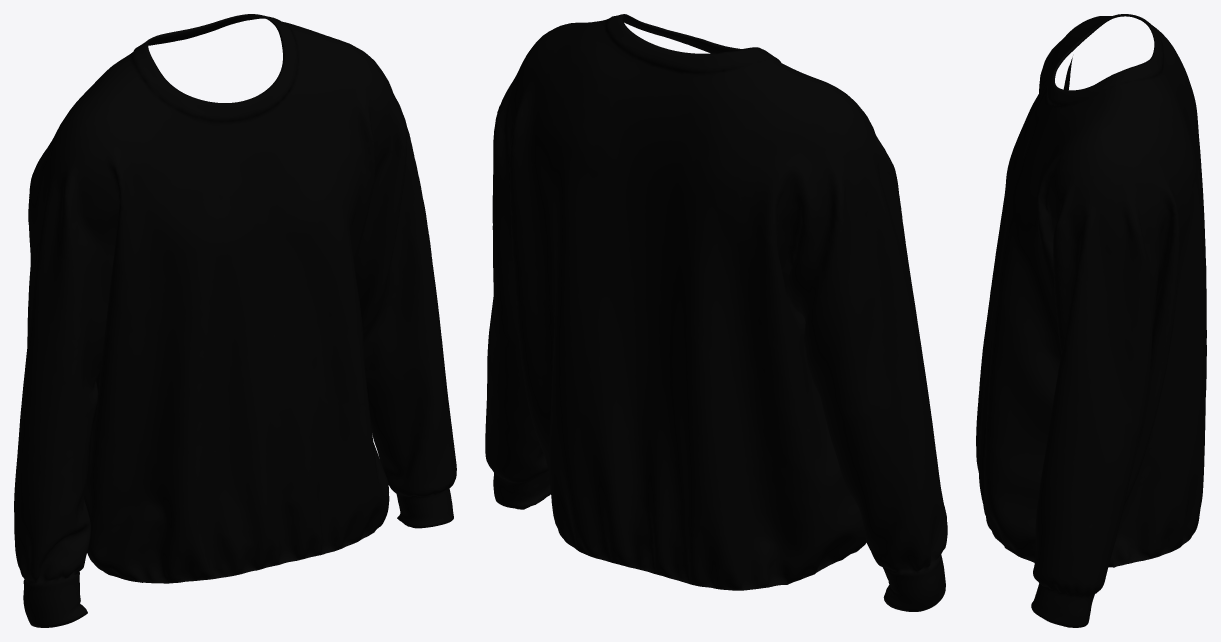
Rendered from pulloverm.glb.
The picture shows the model from 3 angles, left to right: view 1: azimuth 30°, elevation 25°; view 2: azimuth 150°, elevation 25°; view 3: azimuth 270°, elevation 25°; orthographic projection. The views are drawn at different scales.
Parts seen in each view (by area): view 1: Object_4 - piece 2, Object_4 - piece 1, Object_4 - piece, poliver_4, Object_4 - piece 5, Object_4 - piece 16, Object_4 - piece 4; view 2: poliver_4, Object_4 - piece 16, Object_4 - piece 1, Object_4 - piece, Object_4 - piece 2, Object_4 - piece 5, Object_4 - piece 4; view 3: Object_4 - piece, Object_4 - piece 2, Object_4 - piece 16, poliver_4, Object_4 - piece 4.
Boxes of the visible parts, bbox=[...] form: Object_4 - piece 2: bbox=[49, 27, 405, 583]; Object_4 - piece 1: bbox=[14, 173, 114, 582]; Object_4 - piece: bbox=[355, 99, 456, 496]; poliver_4: bbox=[14, 14, 336, 577]; Object_4 - piece 5: bbox=[23, 572, 87, 627]; Object_4 - piece 16: bbox=[32, 21, 373, 443]; Object_4 - piece 4: bbox=[396, 488, 453, 528]; poliver_4: bbox=[498, 14, 946, 587]; Object_4 - piece 16: bbox=[499, 18, 861, 590]; Object_4 - piece 1: bbox=[787, 165, 947, 571]; Object_4 - piece: bbox=[485, 108, 548, 482]; Object_4 - piece 2: bbox=[549, 21, 893, 562]; Object_4 - piece 5: bbox=[883, 554, 945, 611]; Object_4 - piece 4: bbox=[493, 470, 550, 509]; Object_4 - piece: bbox=[1033, 206, 1159, 596]; Object_4 - piece 2: bbox=[976, 16, 1115, 562]; Object_4 - piece 16: bbox=[1096, 25, 1205, 567]; poliver_4: bbox=[1047, 14, 1206, 566]; Object_4 - piece 4: bbox=[1031, 583, 1094, 627].
Size of the model in its own units: 0.6107 by 0.7299 by 0.2986.
1 material, 1 textured.
